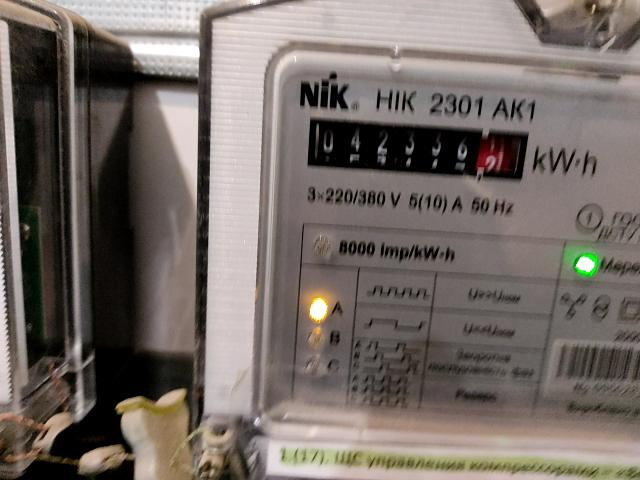0: (322, 126, 335, 155)
2: (374, 128, 392, 155)
3: (401, 128, 417, 157), (430, 129, 444, 157)
4: (348, 127, 364, 154)
6: (455, 135, 470, 162)
screen: (297, 109, 537, 190)
